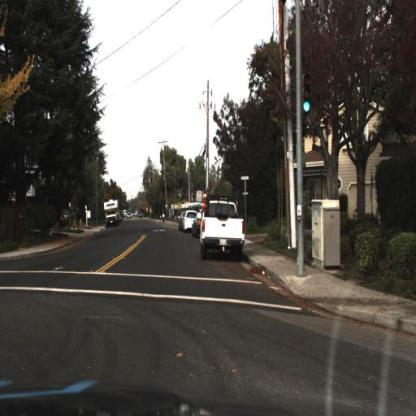car: (198, 193, 251, 266), (184, 206, 197, 235)
trafficLight-Green: (302, 67, 312, 120), (302, 90, 312, 121)
truck: (102, 199, 123, 235)
